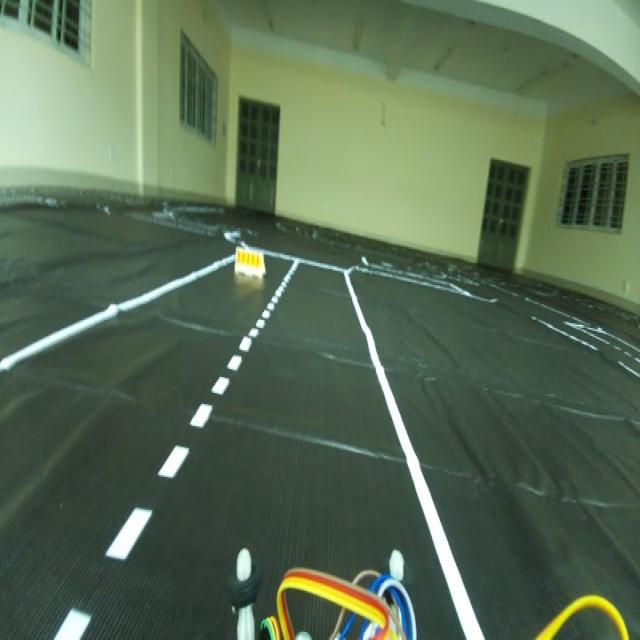roadblock: (232, 247, 274, 284)
